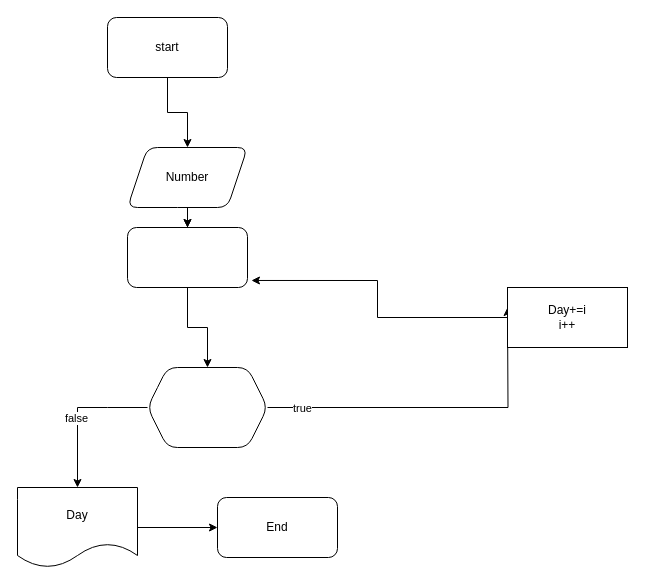
Image size: 645x585. Some labels were removed from this diagram. Here are the shapes that lost their labels. From the top down, the centre of each, then its label:
the point at 187,257: Day=1 i=1
the point at 207,407: i<=Day;
